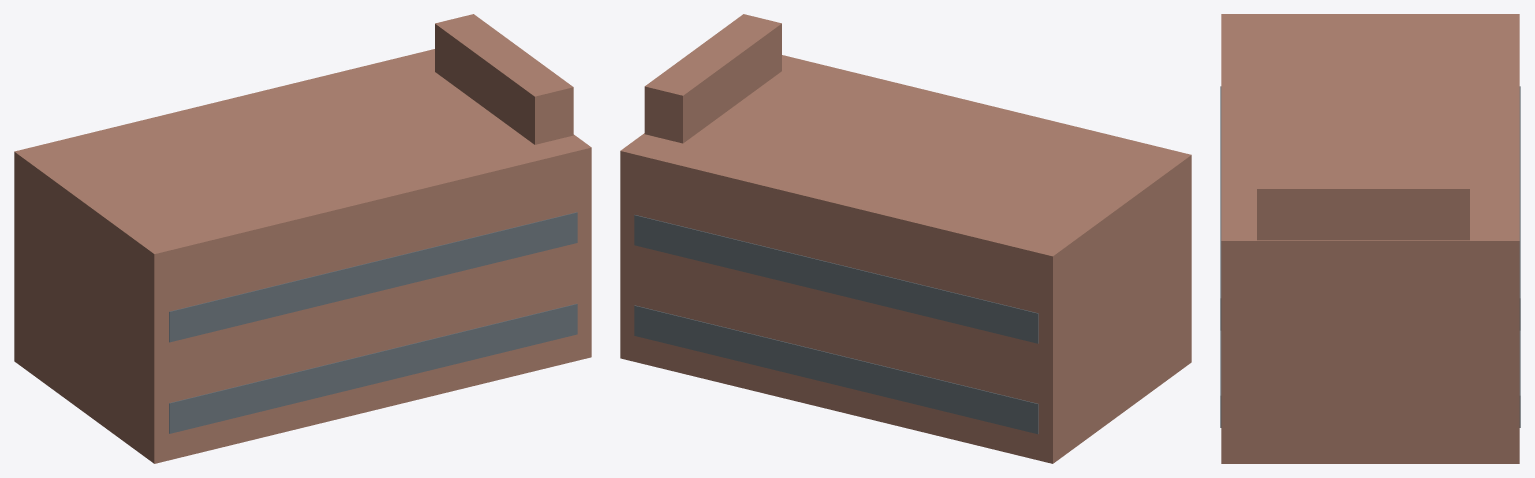
Rendered from ew-workshop.works-v1.lod2.glb.
The picture shows the model from 3 angles, left to right: view 1: azimuth 30°, elevation 25°; view 2: azimuth 150°, elevation 25°; view 3: azimuth 270°, elevation 25°; orthographic projection. The views are drawn at different scales.
Visible parts, largest first — view 1: ew-workshop; view 2: ew-workshop; view 3: ew-workshop.
Part boxes in pixels (bbox=[...]): ew-workshop: bbox=[14, 14, 591, 463]; ew-workshop: bbox=[620, 14, 1191, 463]; ew-workshop: bbox=[1220, 14, 1520, 463].
Bounding box in the file's own units: 18 × 10.15 × 10.06.
